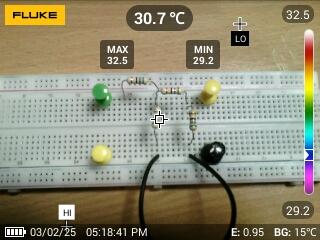resistor: (151, 104, 164, 132), (123, 75, 151, 87), (158, 85, 184, 96), (187, 107, 198, 133)
